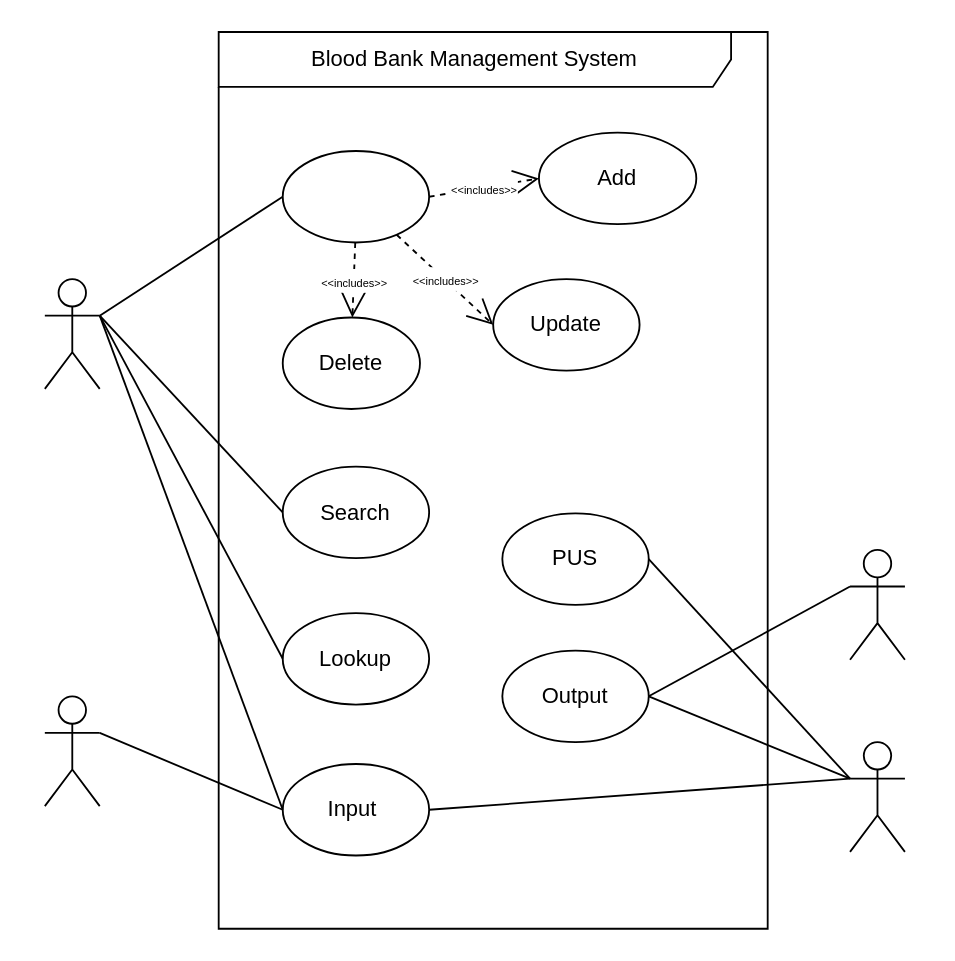
This 955x961 diagram has some shape labels left out. Here are the shapes that lost their labels. From the top down, the centre of each, then its label:
At (x=355, y=195): "Edit".
At (x=71, y=333): "Employee".
At (x=876, y=604): "Hospital".
At (x=71, y=750): "Donor".
At (x=876, y=796): "Blood Bank".
